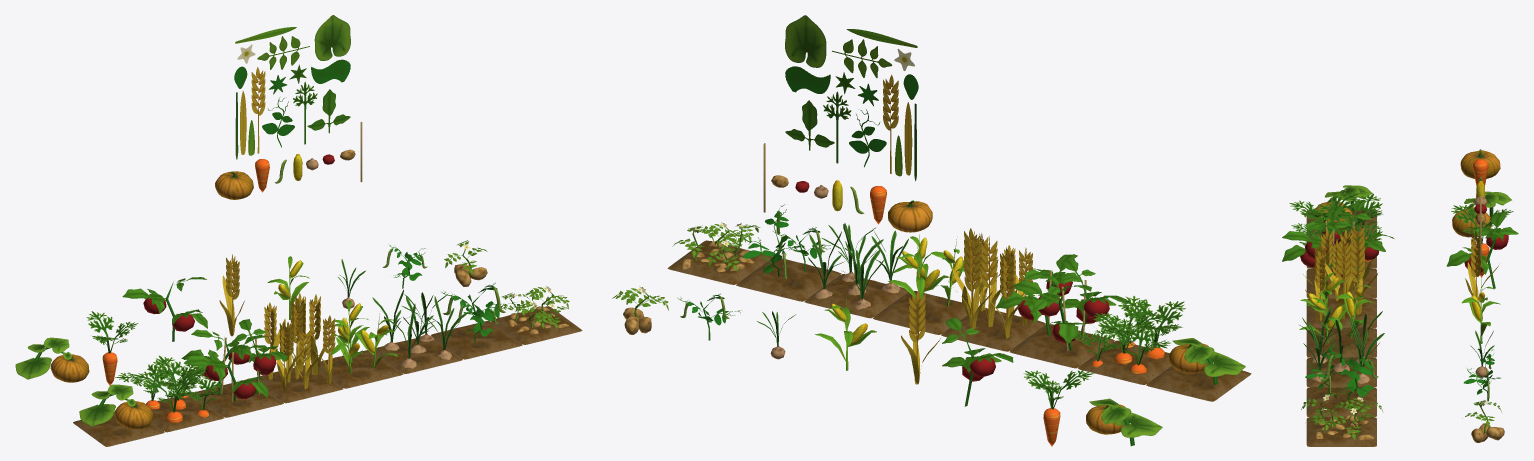
File: plantas.glb
3 renders of one model, left to right at view 1: azimuth 30°, elevation 25°; view 2: azimuth 150°, elevation 25°; view 3: azimuth 270°, elevation 25°, orthographic. The views are drawn at different scales.
Parts seen in each view (by area): view 1: Bed_low, Wheat, Tomato, Carrot, Onion, Pumpkin_single, Pumpkin, Corn, Potato, Tomato_single, Pumpkin_leaf, Peas (+10 smaller); view 2: Bed_low, Tomato, Wheat, Carrot, Onion, Potato, Pumpkin_single, Pumpkin, Corn, Pumpkin_leaf, Tomato_single, Peas (+10 smaller); view 3: Bed_low, Wheat, Tomato, Carrot, Onion, Potato, Corn, Peas, Tomato_single, Pumpkin_single, Potato_single, Pumpkin_low (+7 smaller).
Part boxes in pixels (x1,y1,x2,y2): Bed_low: (73, 306, 582, 446); Wheat: (252, 293, 344, 391); Tomato: (181, 319, 287, 402); Carrot: (115, 355, 221, 422); Onion: (372, 289, 468, 368); Pumpkin_single: (15, 337, 89, 382); Pumpkin: (79, 384, 153, 429); Corn: (329, 297, 397, 373); Potato: (500, 286, 569, 333); Tomato_single: (122, 277, 207, 341); Pumpkin_leaf: (314, 15, 350, 60); Peas: (441, 282, 515, 342); Bed_low: (667, 240, 1251, 401); Tomato: (996, 254, 1126, 350); Wheat: (948, 228, 1032, 338); Carrot: (1074, 296, 1185, 373); Onion: (808, 223, 908, 309); Potato: (672, 222, 759, 272); Pumpkin_single: (1086, 398, 1162, 445); Pumpkin: (1169, 338, 1245, 385); Corn: (888, 234, 964, 306); Pumpkin_leaf: (785, 15, 826, 67); Tomato_single: (942, 317, 1013, 406); Peas: (742, 204, 837, 278); Bed_low: (1306, 209, 1376, 446); Wheat: (1303, 226, 1377, 320); Tomato: (1282, 200, 1393, 278); Carrot: (1289, 192, 1383, 261); Onion: (1298, 305, 1384, 384); Potato: (1301, 392, 1383, 440); Corn: (1299, 269, 1374, 343); Peas: (1305, 344, 1378, 401); Tomato_single: (1446, 212, 1518, 288); Pumpkin_single: (1452, 191, 1511, 237); Potato_single: (1462, 400, 1504, 442); Pumpkin_low: (1460, 149, 1500, 178).
Size of the model in its own units: 8.22 by 5.15 by 3.41.
2 materials, 2 textured.
